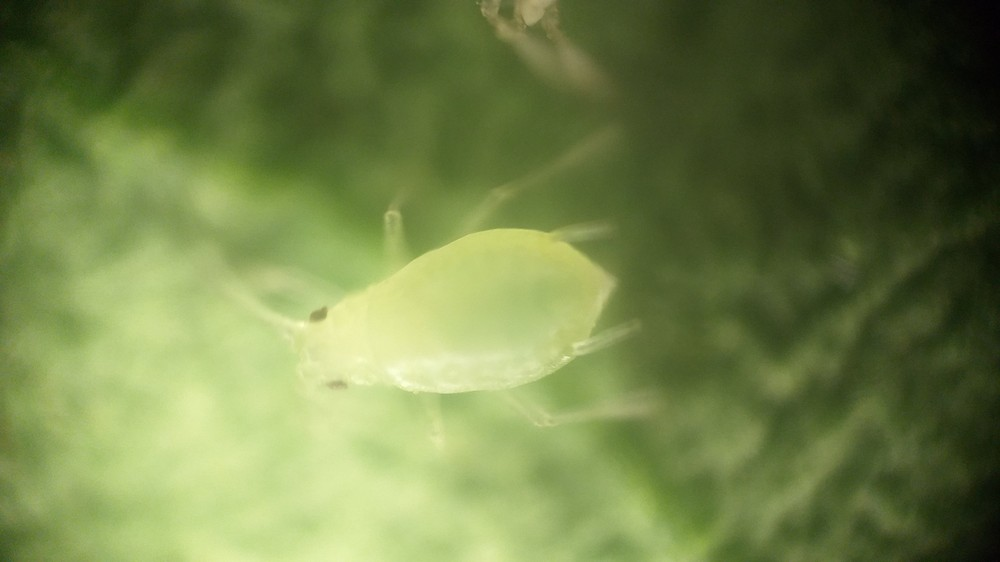Pulgon: (195, 133, 705, 498)
